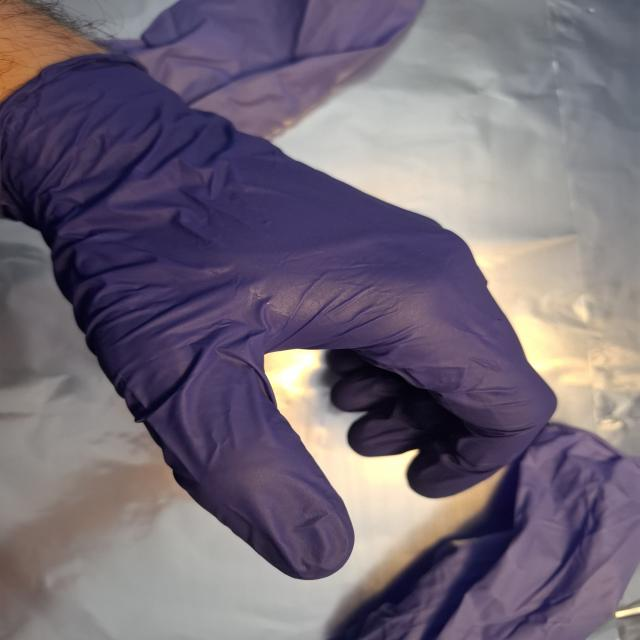glove_on: (0, 46, 561, 585)
